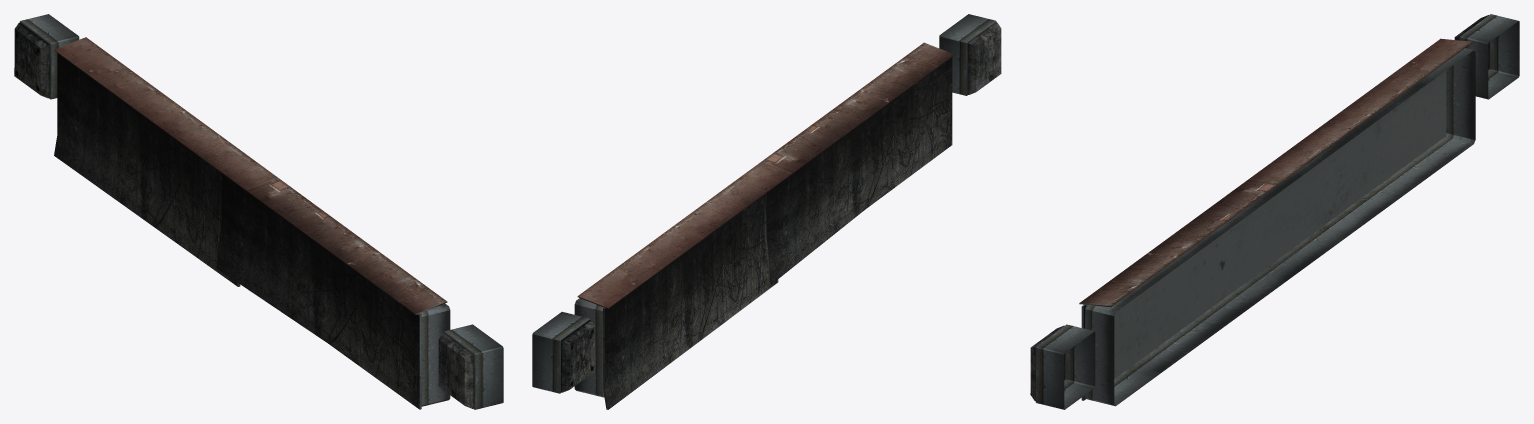
The model's file is SM_bumper_01.fbx.
3 views of the same model, side by side, from view 1: azimuth 30°, elevation 25°; view 2: azimuth 150°, elevation 25°; view 3: azimuth 330°, elevation 25° (orthographic). The views are drawn at different scales.
Visible parts, largest first — view 1: SM_bumper_01; view 2: SM_bumper_01; view 3: SM_bumper_01.
Boxes of the visible parts, box(x1,y1,x2,y2) form: SM_bumper_01: box(14, 14, 503, 409); SM_bumper_01: box(532, 14, 1001, 409); SM_bumper_01: box(1030, 14, 1519, 409).
Bounding box in the file's own units: 22.58 × 437 × 58.68.
Materials: 1 (1 with a texture image).
